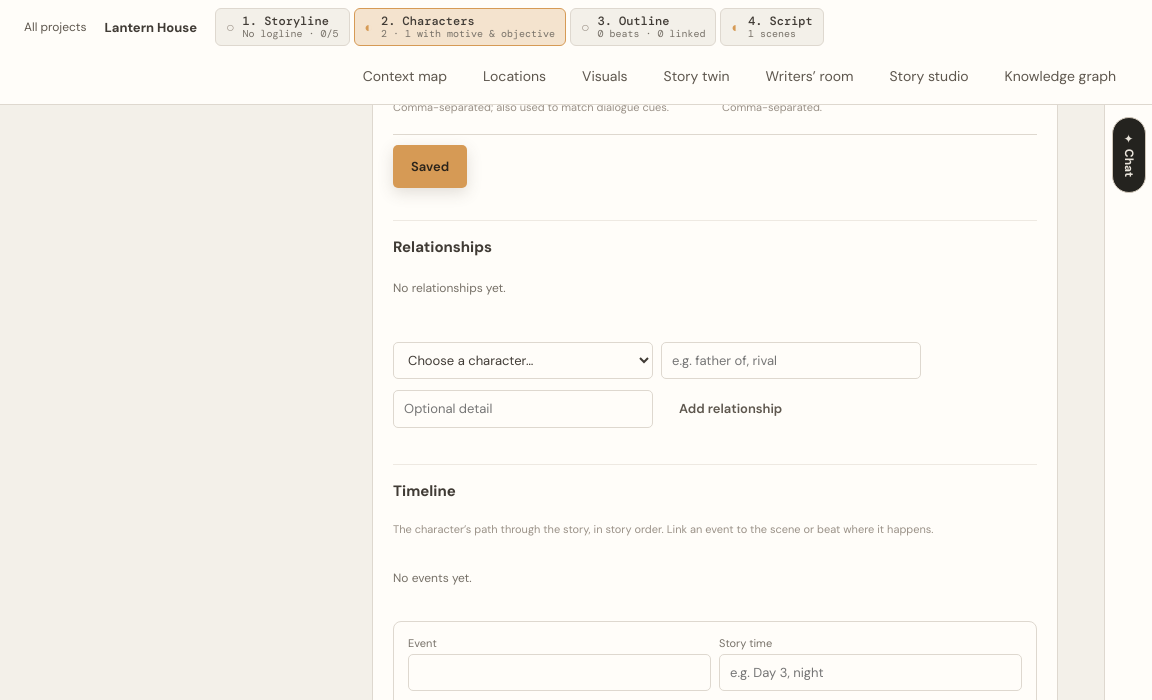
CharactersPage › adds a relationship to another character
(page scrolled)
Select "Old Tom" in the dropdown named "Related character": (523, 361) left=393, top=342, right=653, bottom=379
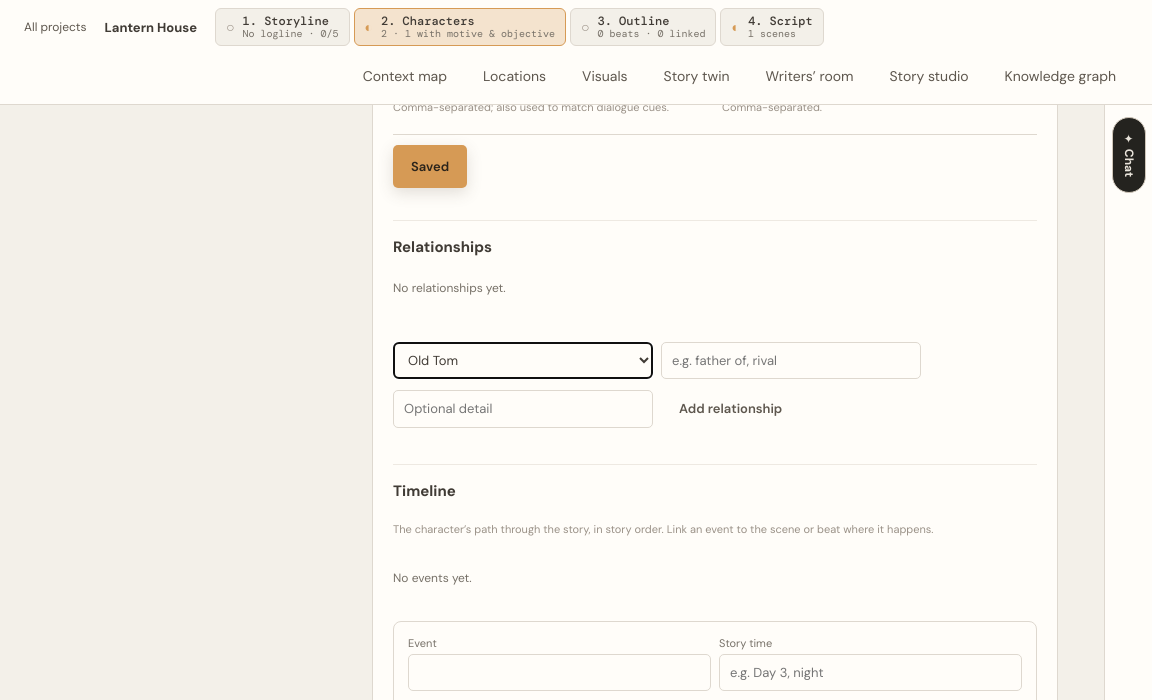
In the field named "Relation": (791, 361) left=661, top=342, right=921, bottom=379, type "granddaughter of"
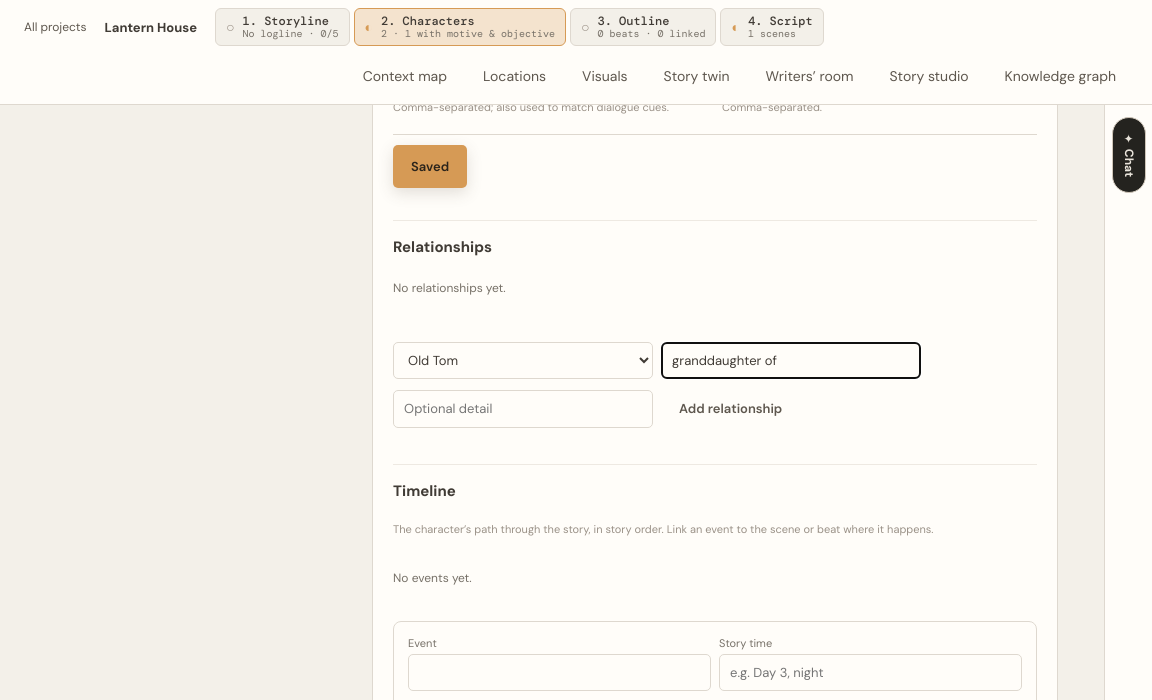
Click the button "Add relationship": (731, 409) left=661, top=387, right=800, bottom=430
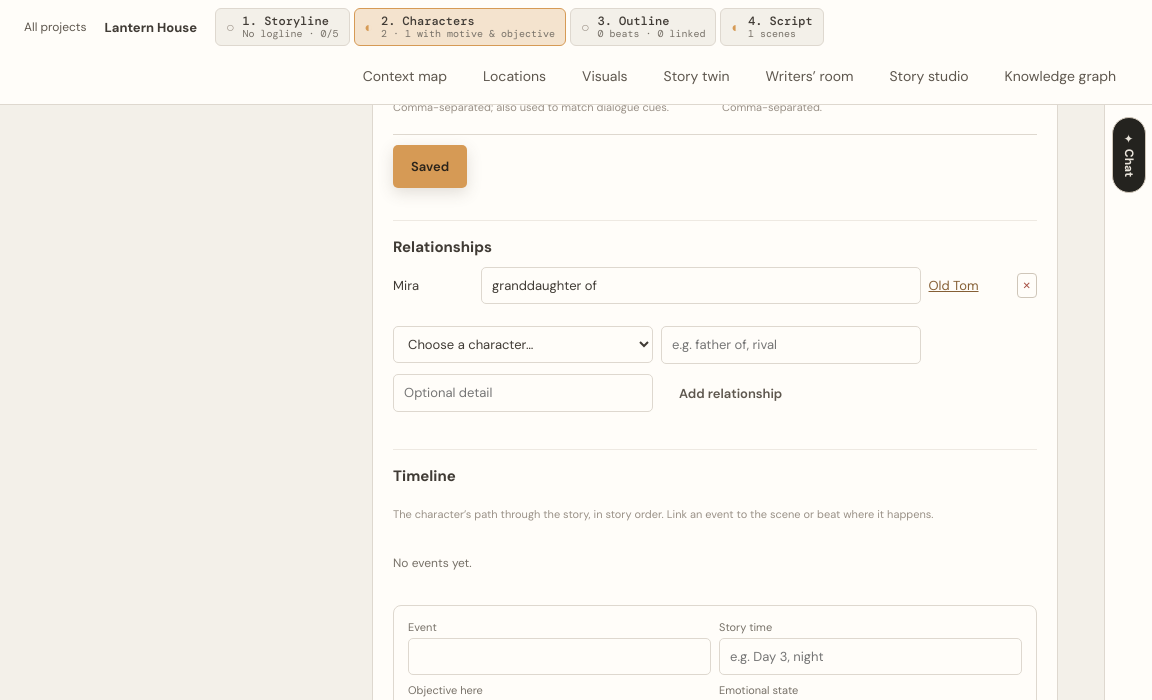
Now the field named "Relation between Mira and Old Tom" is shown, box left=481, top=267, right=921, bottom=304
